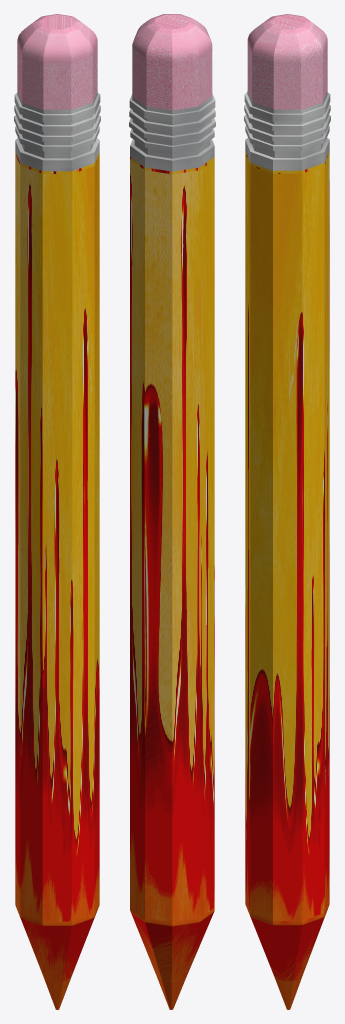
File: LAPIZ_SANGRE_UNITY.fbx
3 views of the same model, side by side, from view 1: azimuth 90°, elevation 25°; view 2: azimuth 150°, elevation 25°; view 3: azimuth 330°, elevation 25° (orthographic).
Visible parts, largest first — view 1: lapiz; view 2: lapiz; view 3: lapiz.
Boxes of the visible parts, bbox=[...] form: lapiz: bbox=[14, 14, 100, 1009]; lapiz: bbox=[129, 14, 215, 1009]; lapiz: bbox=[244, 14, 330, 1009].
Size of the model in its own units: 1.99 by 25.36 by 2.02.
